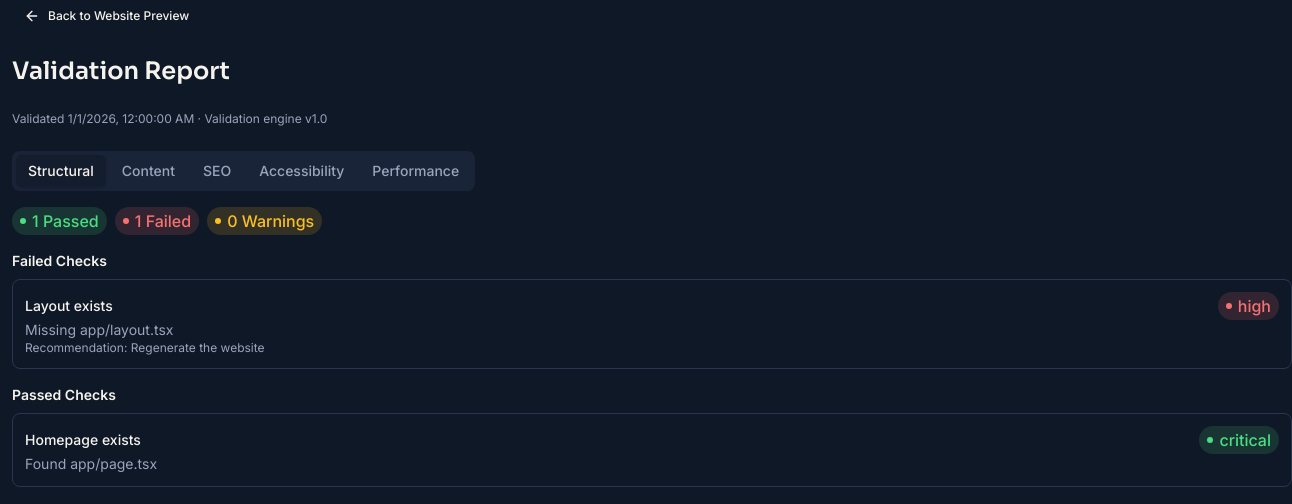
it: ValidationReport › switches to the SEO category tab and shows its own warning
Check: the text "1 Passed" is shown, box [12,207,107,235]
Click the tab "SEO" at (217, 171), box [191,155,243,187]
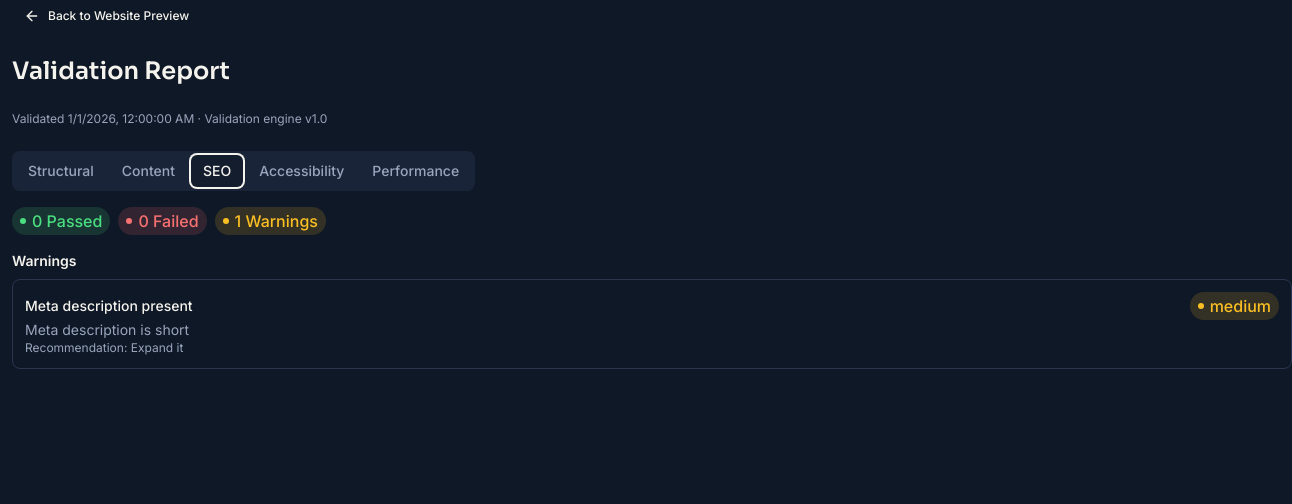
Check: the text "0 Passed" is shown, box [12,207,110,235]
Check: the text "1 Warnings" is shown, box [214,207,326,235]
Check: the text "Meta description present" is shown, box [25,296,193,316]
